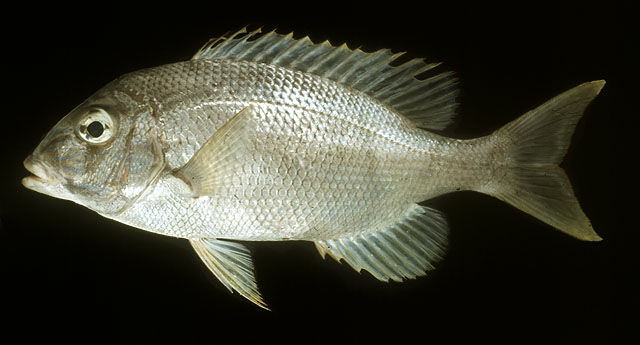fish: (21, 26, 607, 312)
